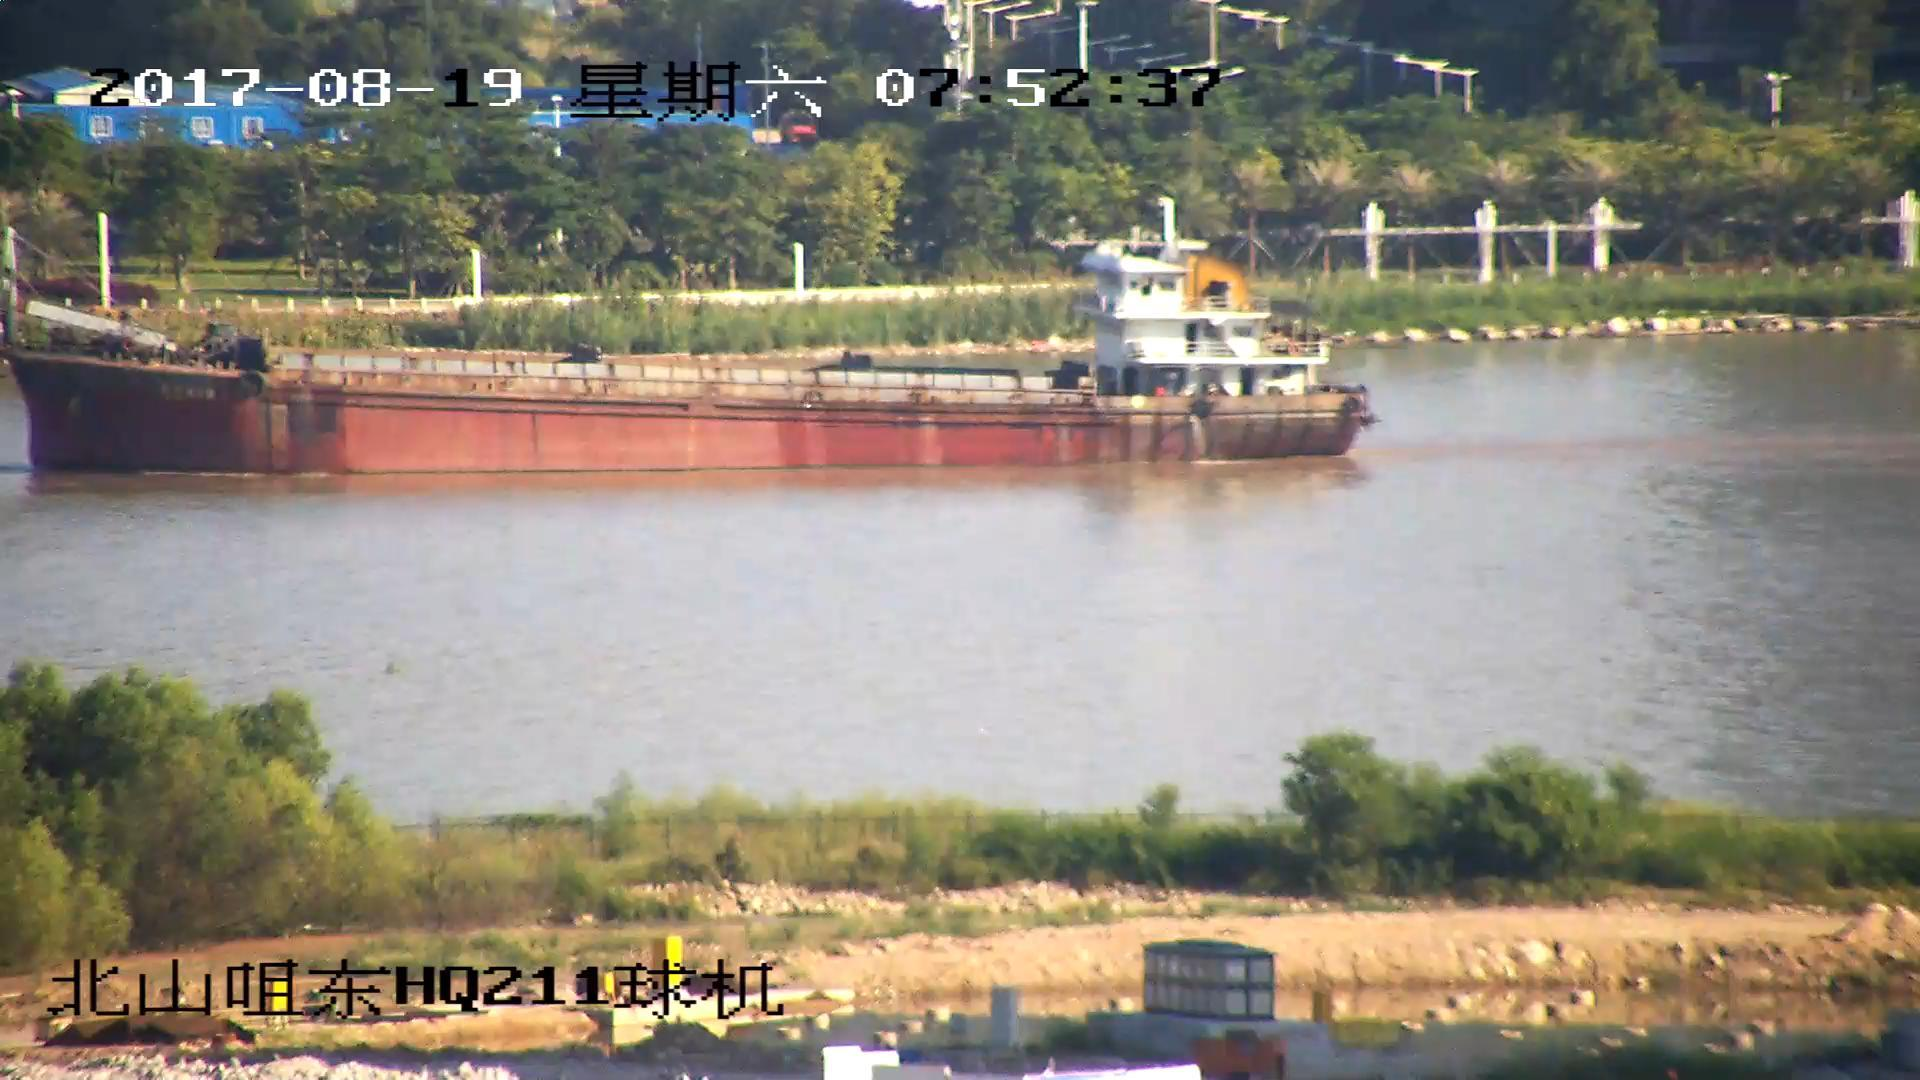Ship: (3, 233, 1367, 477)
